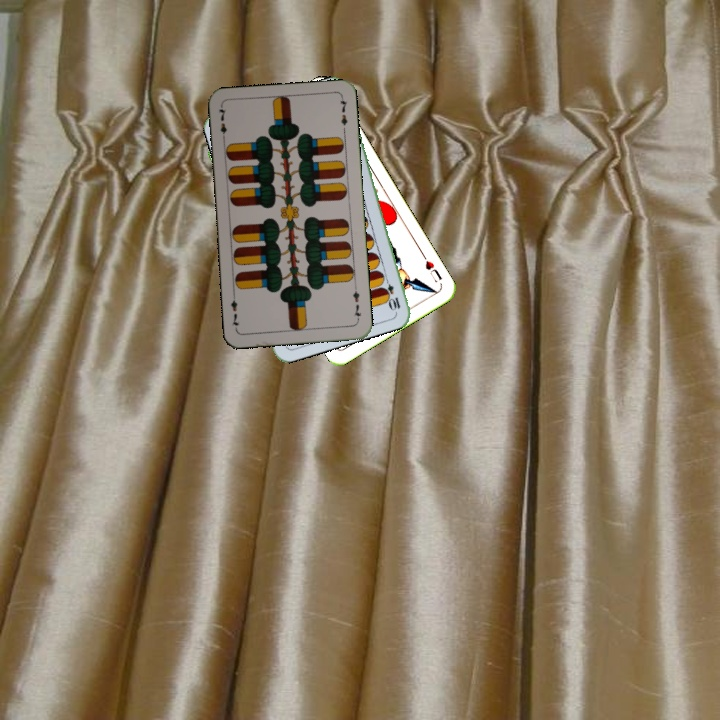E10: (380, 273, 403, 313)
E7: (349, 283, 364, 323), (215, 103, 229, 144)
HU: (418, 250, 444, 285)
